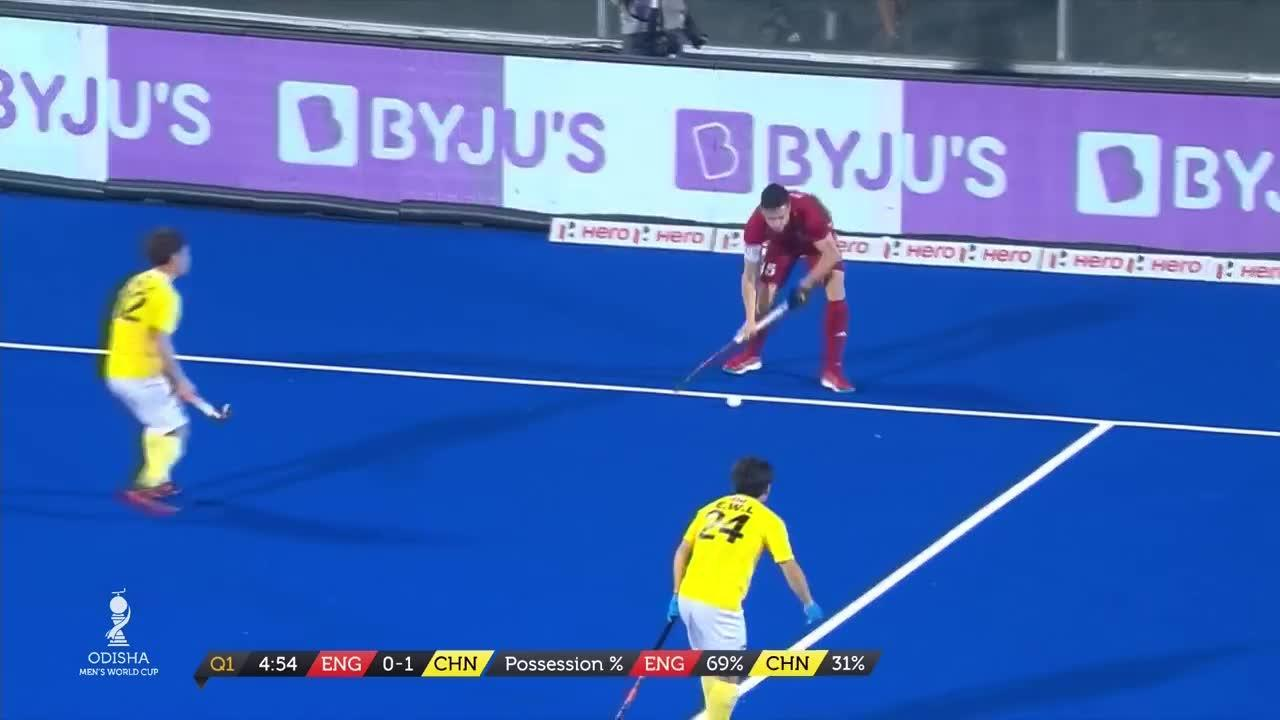ball: (724, 392, 740, 411)
